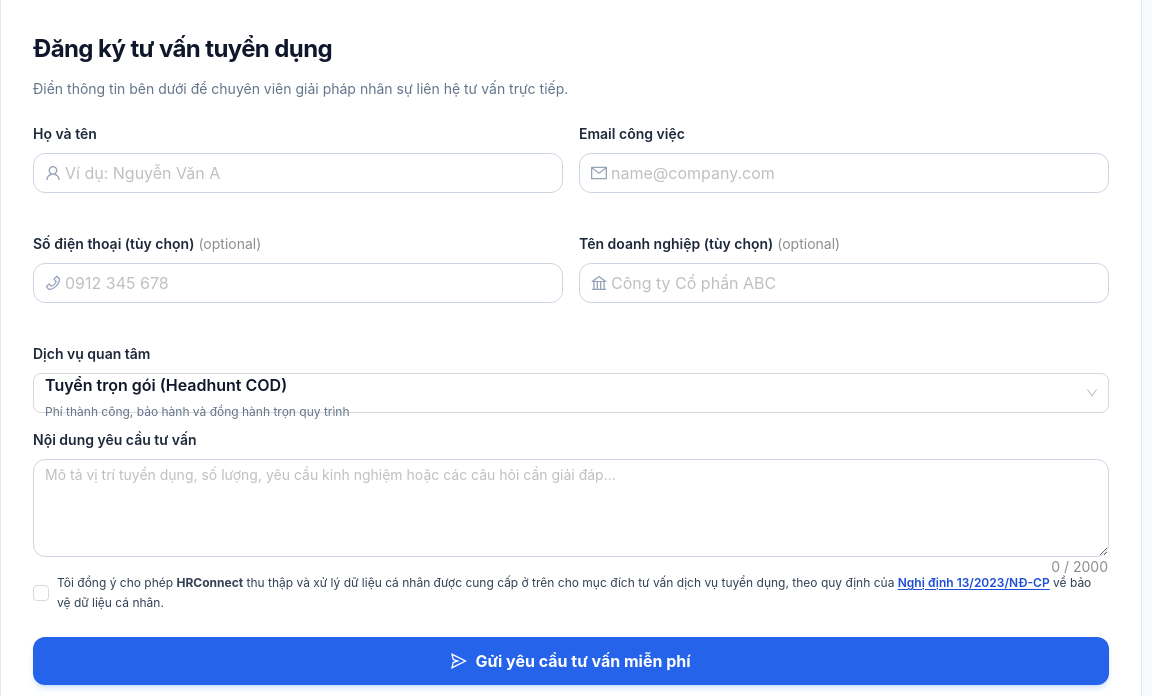
ContactConsultationForm › displays validation error if consent checkbox is not ticked on submit
The width and height of the screenshot is (1152, 696).
In the field with placeholder "Ví dụ: Nguyễn Văn A": (308, 173) [65,161,551,185], type "Nguyễn Văn A"
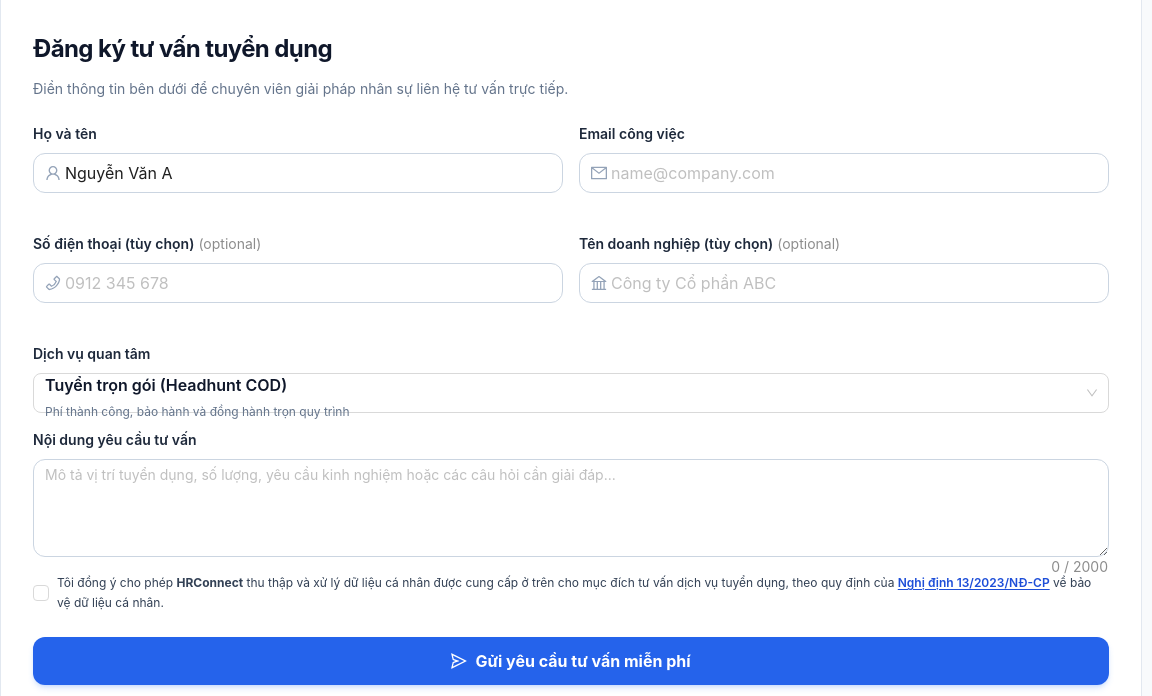
In the field with placeholder "name@company.com": (854, 173) [611,161,1097,185], type "vana@example.com"
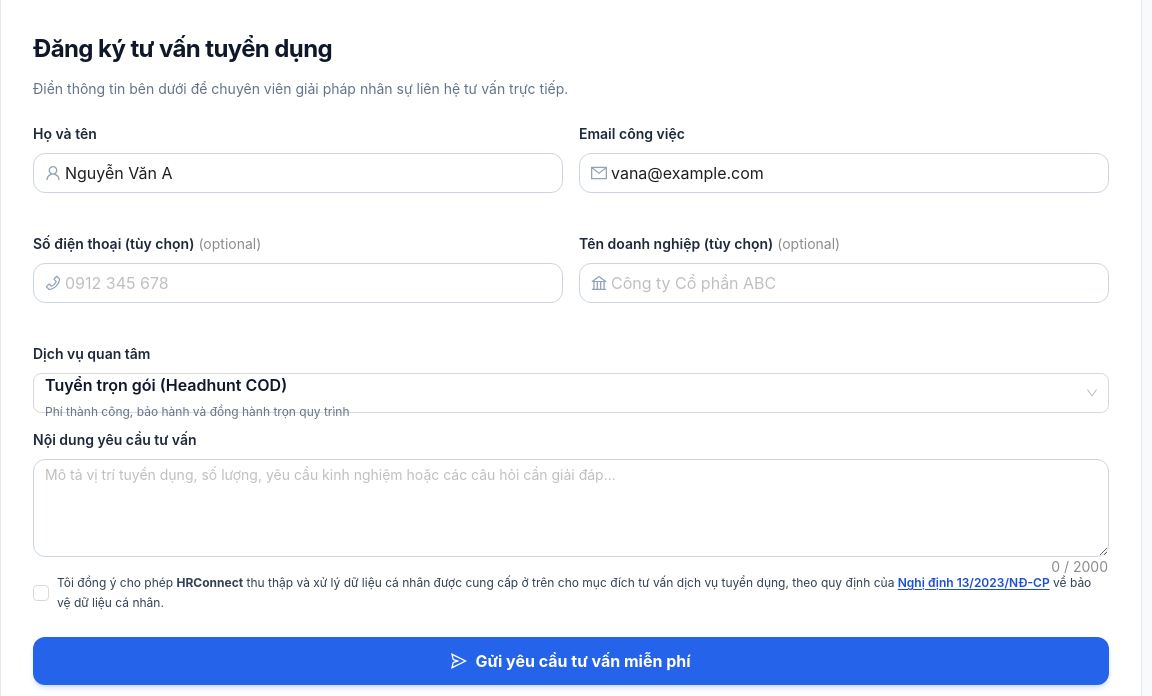
Replace the text in the text box with placeholder "Mô tả vị trí tuyển dụng" with "Cần tư vấn tuyển dụng 3 Senior React Dev trọn gói.": (571, 508) [34,460,1108,556]
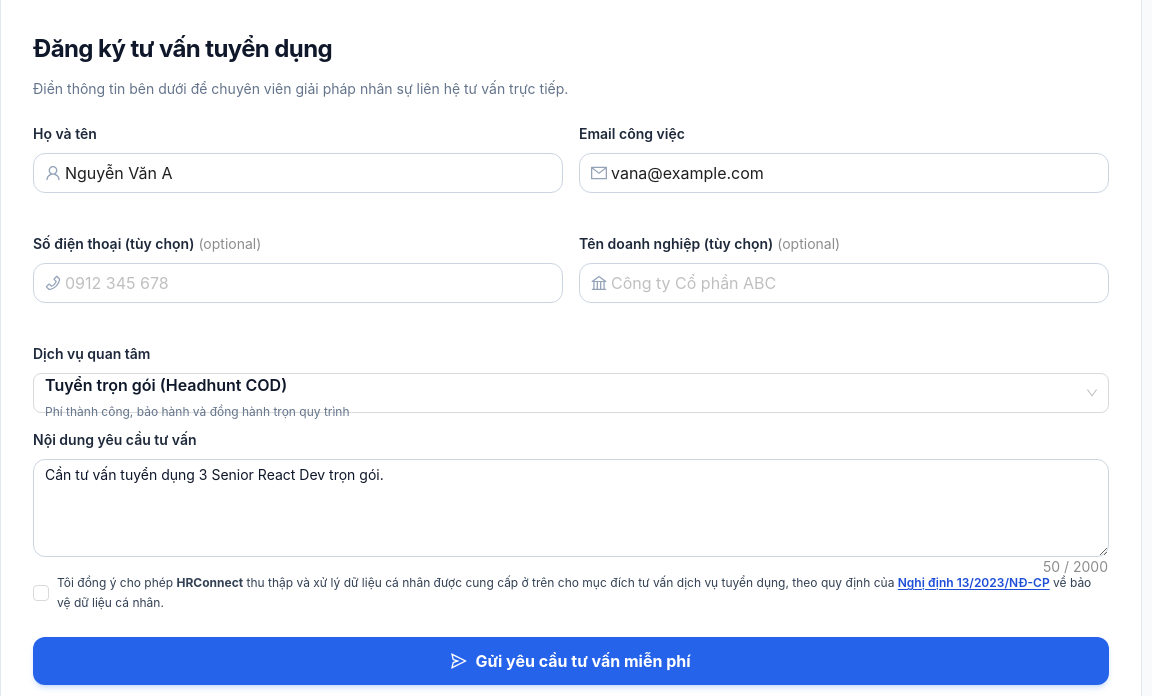
Click the button "Gửi yêu cầu tư vấn miễn phí": (571, 661) [33,637,1109,685]
(page scrolled)
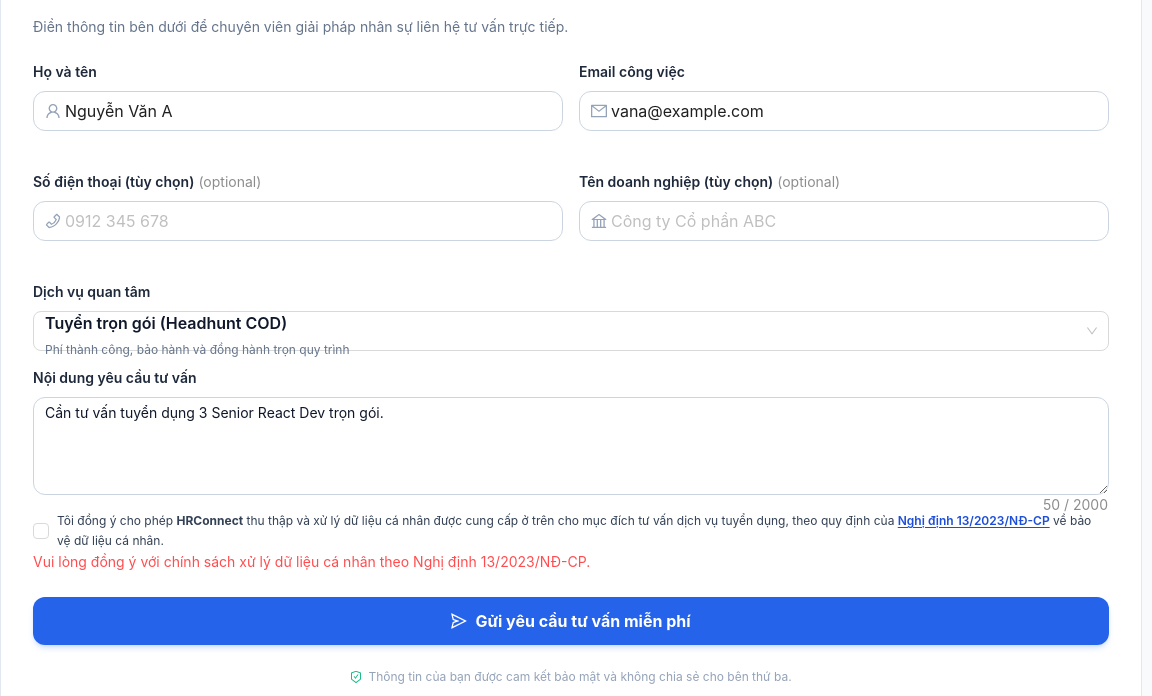
expect the text "Vui lòng đồng ý với chính sách xử lý dữ liệu cá nhân" is shown: met, box [33,553,590,570]
